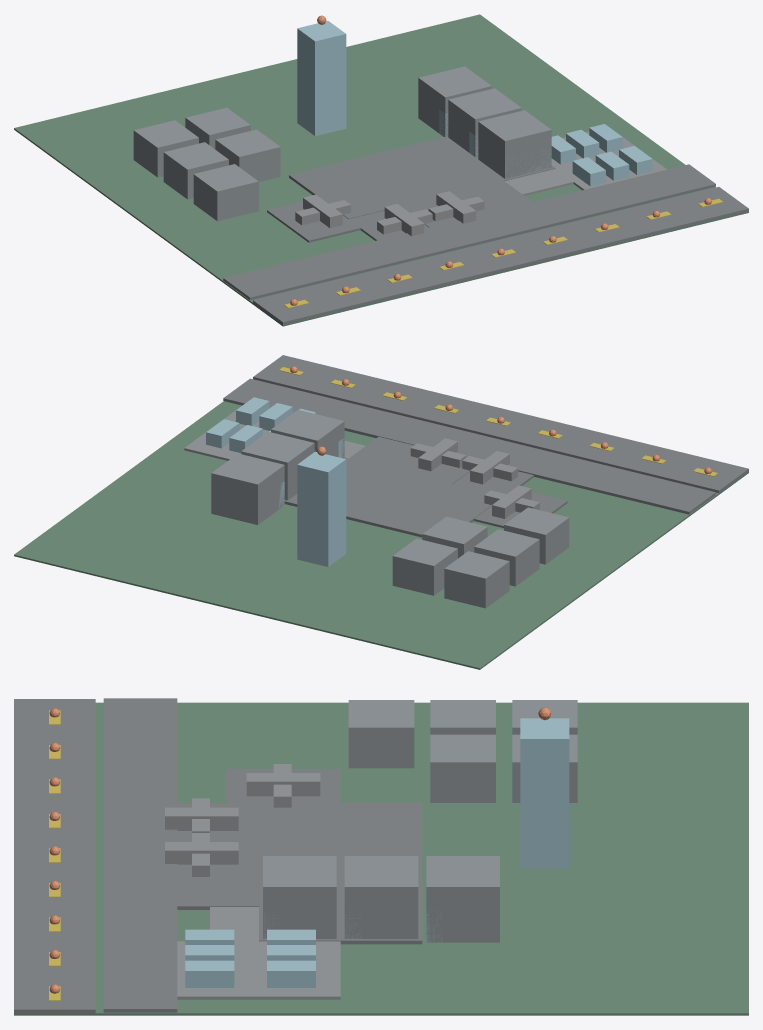
Rendered from stage_20.glb.
3 views of the same model, one above another, from view 1: azimuth 30°, elevation 25°; view 2: azimuth 150°, elevation 25°; view 3: azimuth 270°, elevation 25° (orthographic). The views are drawn at different scales.
Visible parts, largest first — view 1: geometry_0; view 2: geometry_0; view 3: geometry_0.
Boxes of the visible parts, x1,y1,x2,y2 form: geometry_0: (14,14,748,326); geometry_0: (14,355,748,669); geometry_0: (14,698,748,1015).
Bounding box in the file's own units: 9 × 2.06 × 9.
